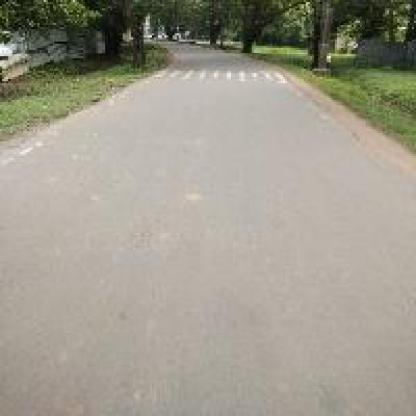Speed Bump: (144, 64, 289, 86)
